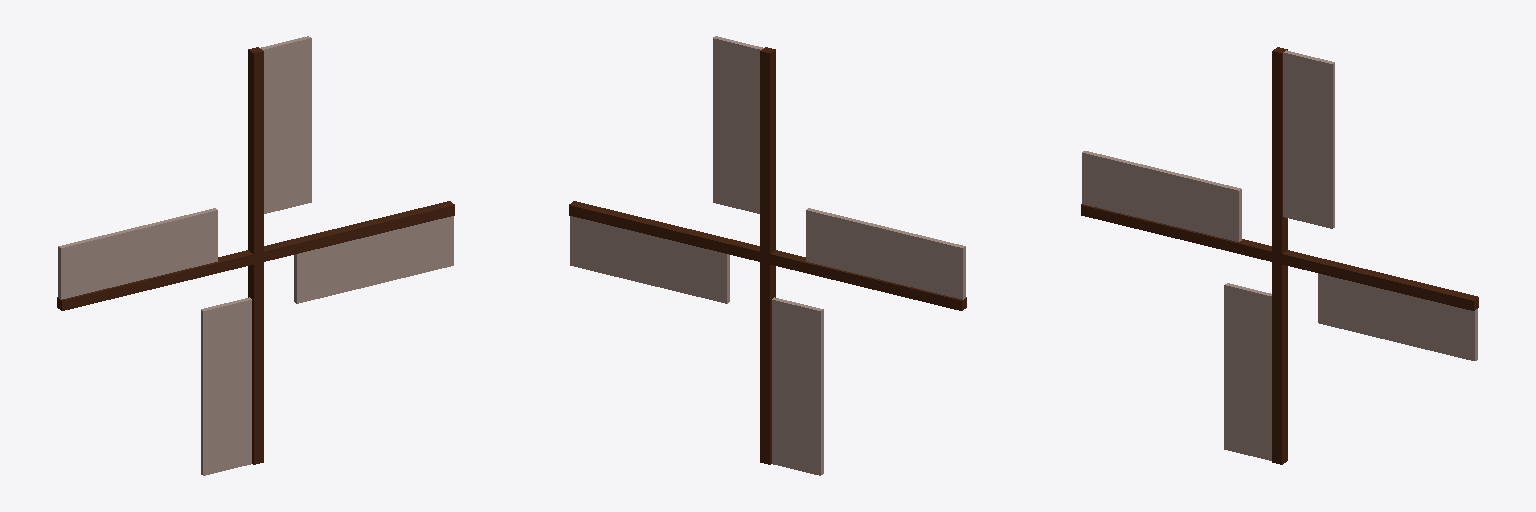
File: windmill1.obj
The picture shows the model from 3 angles: view 1: azimuth 30°, elevation 25°; view 2: azimuth 150°, elevation 25°; view 3: azimuth 330°, elevation 25°; orthographic projection.
Visible parts, largest first — view 1: Object.3, Object.2, Object.1; view 2: Object.3, Object.2, Object.1; view 3: Object.3, Object.1, Object.2.
Part boxes in pixels (left/top/right/bottom): Object.3: left=57, top=47, right=454, bottom=475; Object.2: left=58, top=208, right=217, bottom=299; Object.1: left=260, top=36, right=311, bottom=213; Object.3: left=569, top=47, right=966, bottom=475; Object.2: left=806, top=208, right=965, bottom=299; Object.1: left=713, top=36, right=763, bottom=213; Object.3: left=1081, top=47, right=1478, bottom=464; Object.1: left=1283, top=50, right=1334, bottom=228; Object.2: left=1082, top=151, right=1241, bottom=241.
Size of the model in its own units: 1 by 1 by 0.0248.